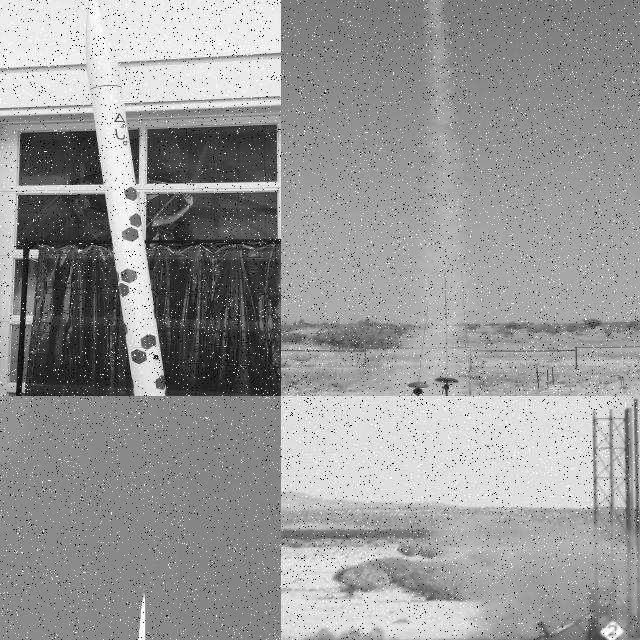Rocket: (86, 0, 167, 396), (143, 588, 146, 600)
